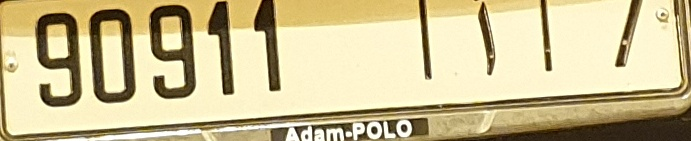0: (88, 9, 139, 103)
1: (204, 0, 237, 96), (250, 0, 284, 92)
7: (606, 0, 646, 70)
9: (149, 3, 196, 101), (36, 11, 82, 111)
a: (467, 0, 501, 78)
